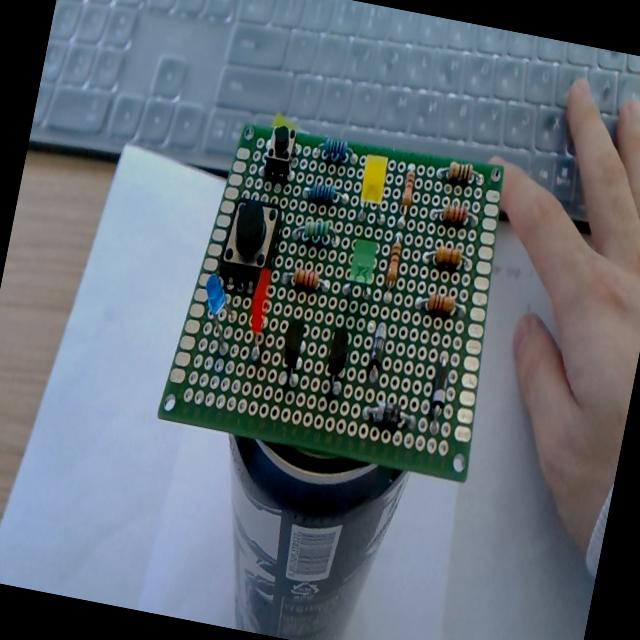diode: (413, 346, 458, 448), (354, 389, 422, 444), (360, 311, 392, 389)
led: (238, 262, 280, 366), (336, 228, 386, 314), (194, 272, 242, 360), (350, 146, 398, 231)
resistor: (427, 150, 495, 202), (406, 280, 472, 328), (423, 196, 489, 240), (386, 157, 421, 230), (306, 132, 364, 176), (288, 210, 343, 256), (273, 260, 333, 302), (376, 232, 408, 305), (300, 173, 356, 213), (416, 245, 472, 282)
switch: (208, 192, 292, 278), (255, 118, 305, 186)
transistor: (318, 318, 360, 400), (272, 316, 310, 394)
